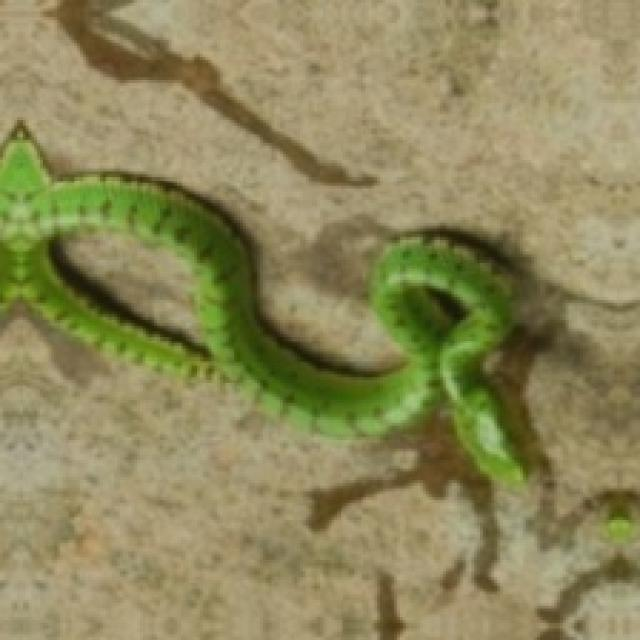philippine pitviper: (0, 123, 526, 480)
